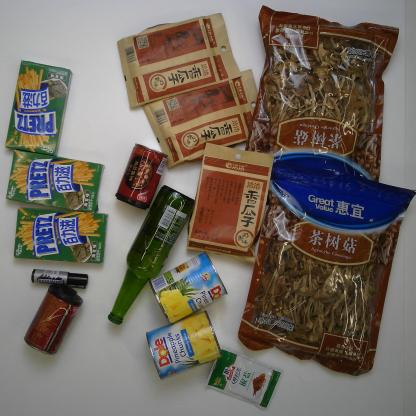Alcohol: (106, 184, 196, 326)
Canned Food: (149, 250, 229, 326), (145, 309, 224, 381), (23, 284, 83, 356), (114, 143, 171, 211)
Dessert: (5, 59, 73, 156), (4, 148, 105, 213), (13, 207, 108, 264)
Dried Food: (237, 161, 416, 376), (243, 4, 400, 193), (141, 67, 263, 168), (117, 11, 243, 107), (186, 140, 276, 264)
Seasoner: (204, 346, 284, 412)
Stationery: (31, 268, 88, 289)
